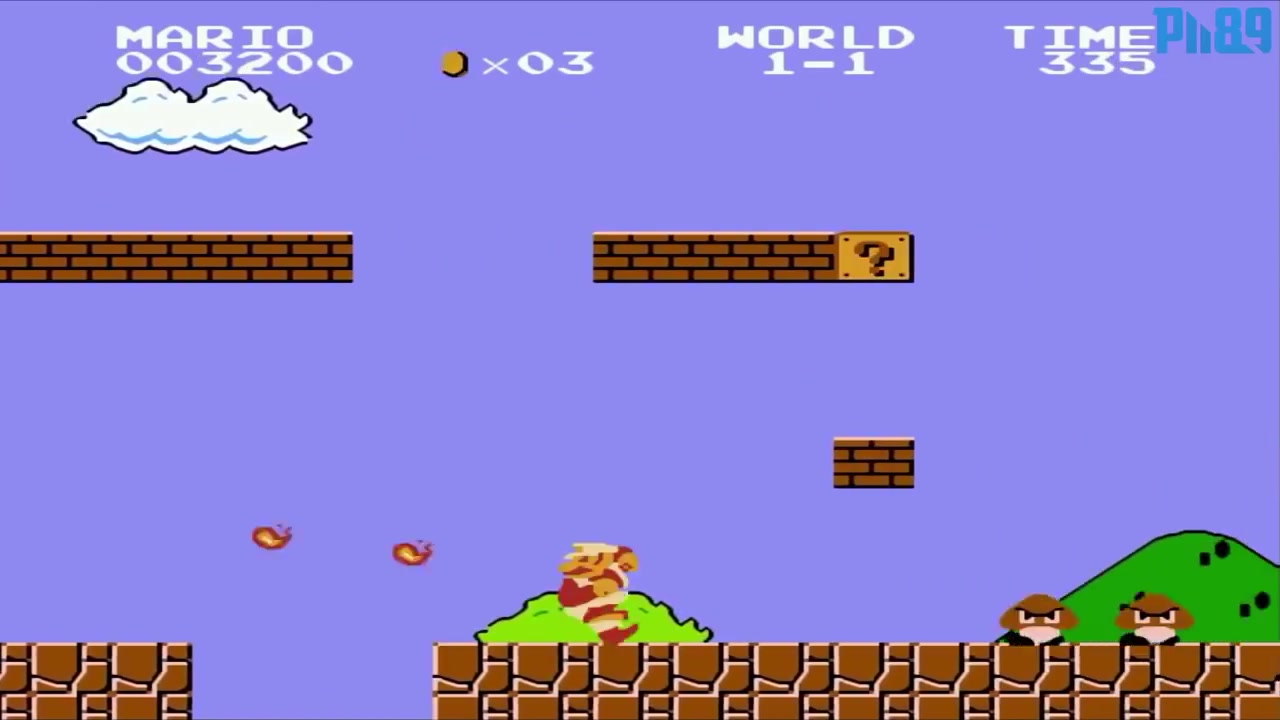mario: (546, 536, 645, 651)
